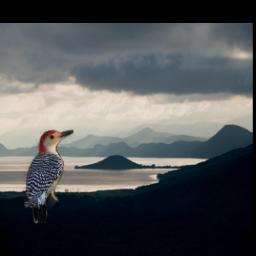Woodpecker: (23, 130, 73, 224)
